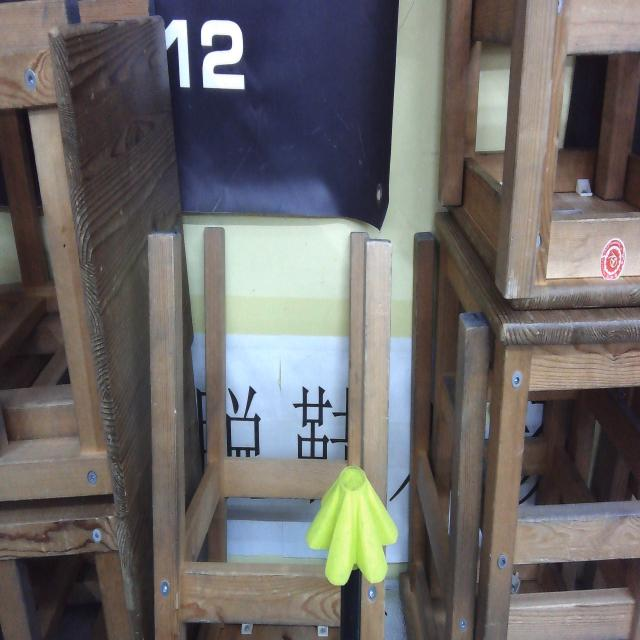Yellow-Stake-Head: (306, 465, 398, 586)
